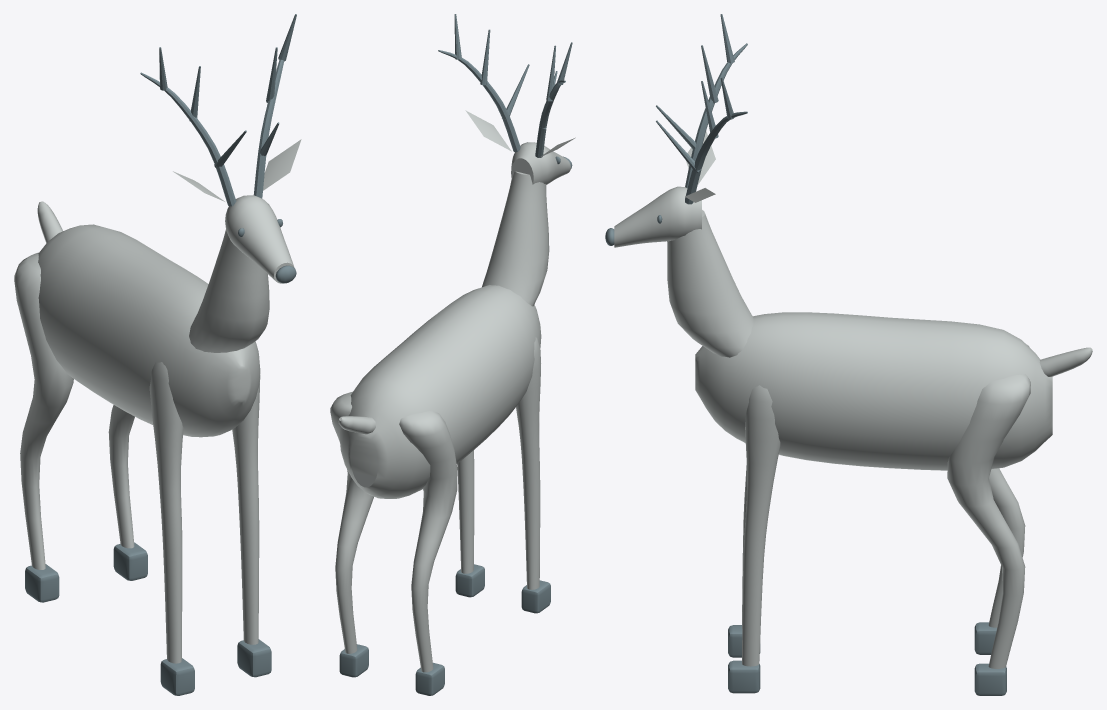
Rendered from deer.glb.
The picture shows the model from 3 angles, left to right: view 1: azimuth 30°, elevation 25°; view 2: azimuth 150°, elevation 25°; view 3: azimuth 270°, elevation 25°; orthographic projection. The views are drawn at different scales.
Parts seen in each view (by area): view 1: slender_body, hind_leg, foreleg, upright_neck, foreleg.001, deer_head, hind_leg.001, antler_beam, hoof.001, hoof.003, hoof.002, hoof (+3 smaller); view 2: slender_body, hind_leg, upright_neck, foreleg, hind_leg.001, foreleg.001, deer_head, antler_beam.001, hoof.003, hoof, hoof.001, hoof.002 (+3 smaller); view 3: slender_body, hind_leg.001, upright_neck, foreleg.001, deer_head, hind_leg, hoof.002, hoof.003, short_tail, antler_beam.001, antler_beam.
Boxes of the visible parts, <box> form: slender_body: <box>38,224,260,437</box>; hind_leg: <box>14,252,73,569</box>; foreleg: <box>149,362,183,663</box>; upright_neck: <box>189,229,269,352</box>; foreleg.001: <box>232,356,260,644</box>; deer_head: <box>225,195,294,283</box>; hind_leg.001: <box>108,405,134,548</box>; antler_beam: <box>140,72,236,206</box>; hoof.001: <box>25,564,59,602</box>; hoof.003: <box>113,542,147,580</box>; hoof.002: <box>237,639,271,677</box>; hoof: <box>160,658,194,695</box>; slender_body: <box>339,285,541,498</box>; hind_leg: <box>399,411,457,672</box>; upright_neck: <box>482,171,549,306</box>; foreleg: <box>516,337,540,589</box>; hind_leg.001: <box>330,391,373,653</box>; foreleg.001: <box>457,450,474,573</box>; deer_head: <box>511,142,570,184</box>; antler_beam.001: <box>438,50,520,152</box>; hoof.003: <box>339,644,368,677</box>; hoof: <box>521,580,550,613</box>; hoof.001: <box>415,662,444,695</box>; hoof.002: <box>455,564,484,597</box>; slender_body: <box>695,312,1052,470</box>; hind_leg.001: <box>947,374,1030,668</box>; upright_neck: <box>667,210,753,357</box>; foreleg.001: <box>742,385,780,666</box>; deer_head: <box>614,186,701,247</box>; hind_leg: <box>988,345,1029,627</box>; hoof.002: <box>728,660,760,693</box>; hoof.003: <box>974,663,1006,695</box>; short_tail: <box>1039,347,1092,376</box>; antler_beam.001: <box>685,111,747,204</box>; antler_beam: <box>685,43,747,187</box>.
Size of the model in its own units: 0.5042 by 2.13 by 1.5.
